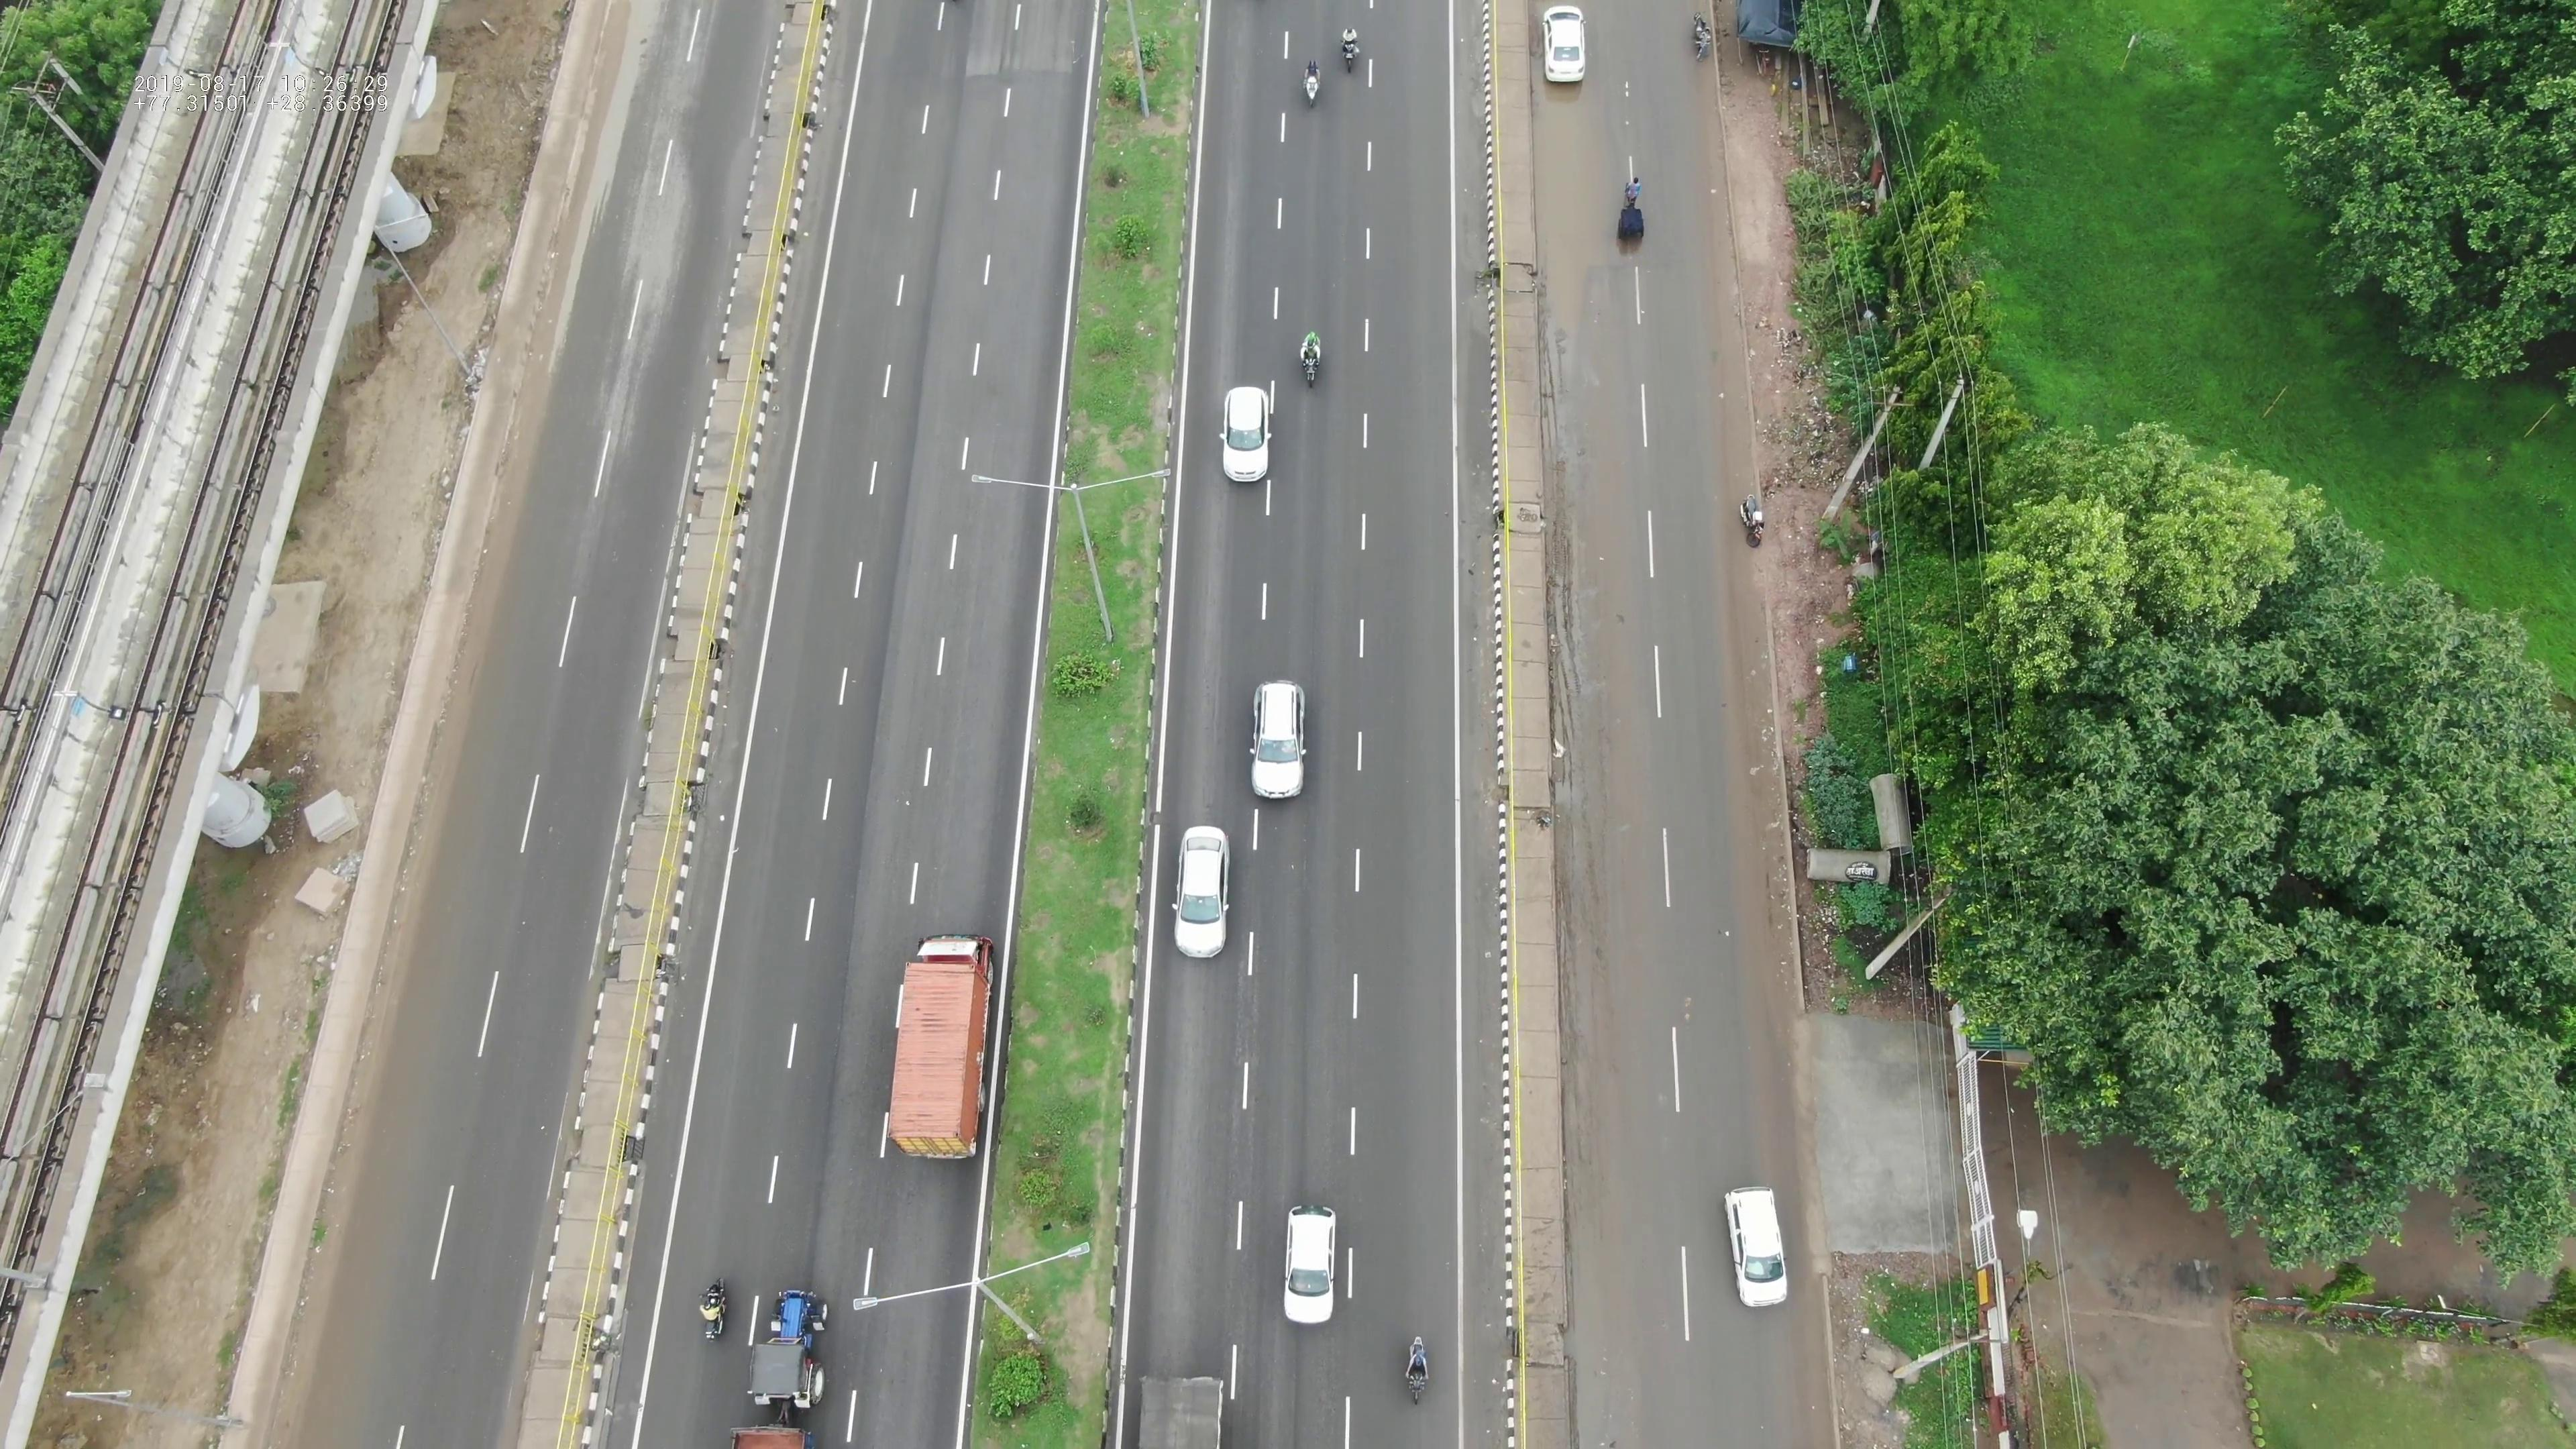Muddy_road: (1713, 547, 1799, 980), (1555, 550, 1626, 1008)
Waterlogging: (1523, 81, 1633, 356)
